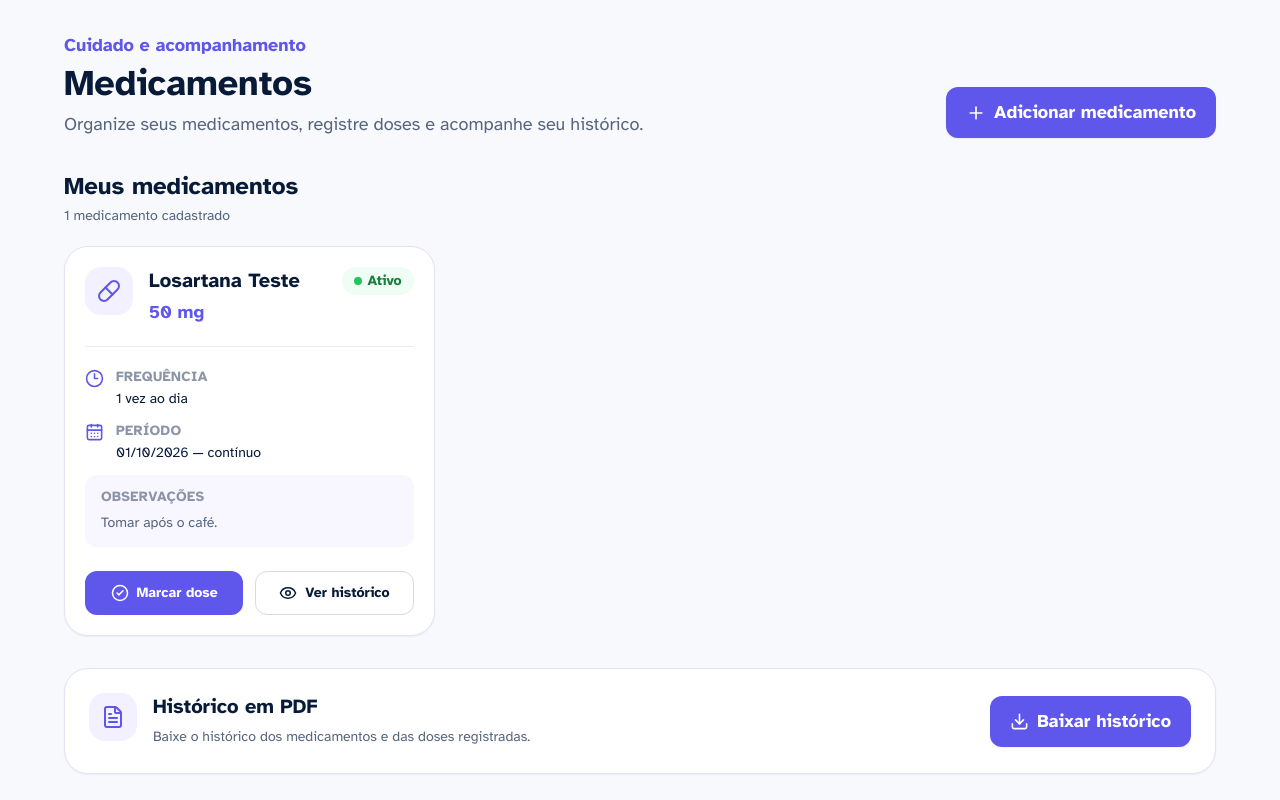
it: Remedios - marcar dose › abre modal para medicamento ativo
Click the button "Marcar dose" at x=164, y=593, box [85,571,243,615]
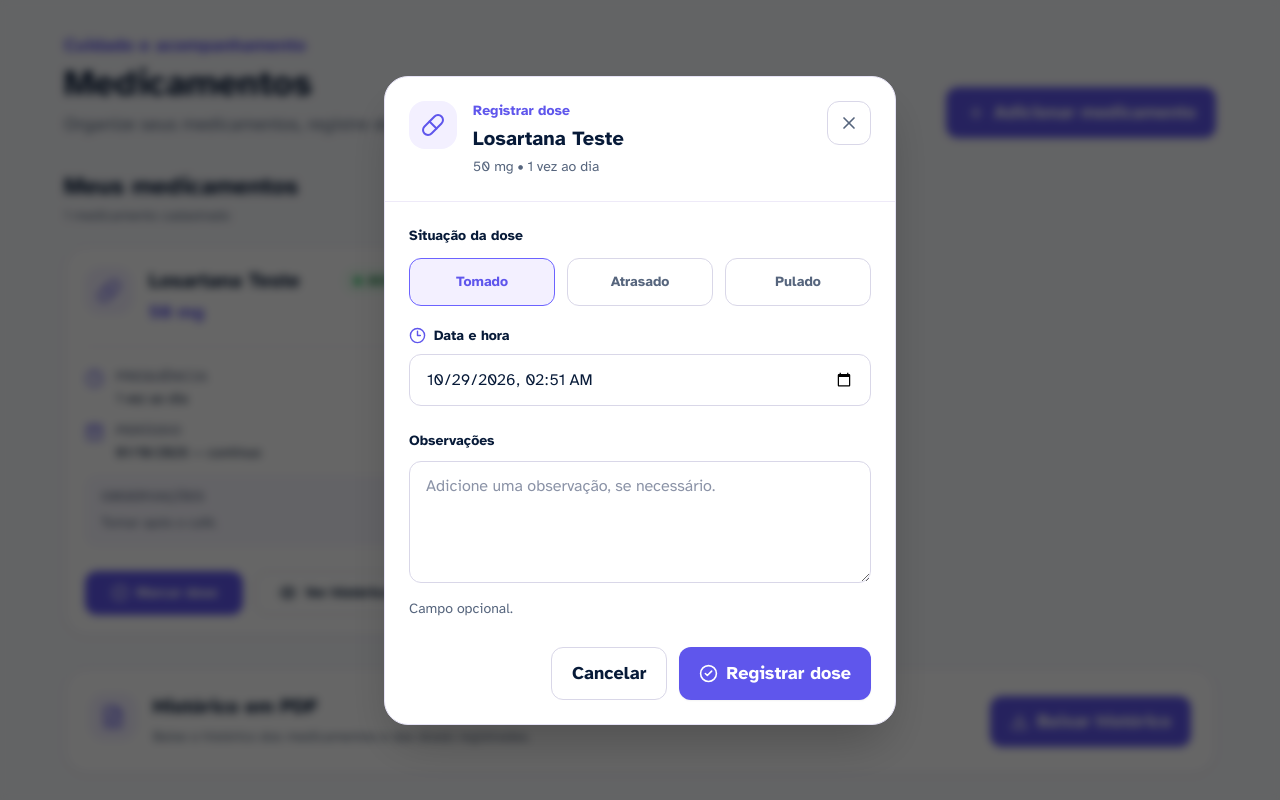
Result: the dialog is shown at [384,76,896,724]
Result: the heading "Losartana Teste" is shown at [473,124,624,152]
Result: the text "Situação da dose" is shown at [409,226,523,246]
